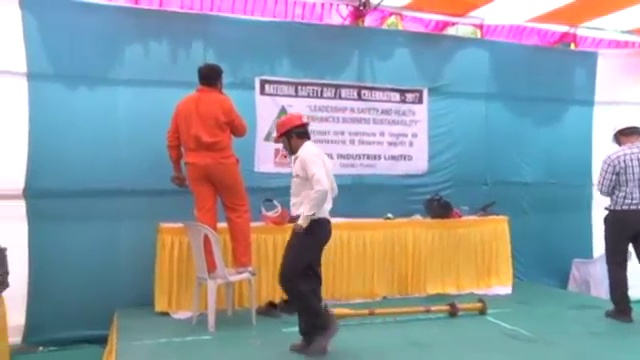helmet: (272, 113, 310, 143), (608, 113, 640, 142)
helmet_off: (196, 60, 224, 89)
helmet_on: (271, 114, 313, 156), (607, 112, 640, 153)
person: (165, 61, 259, 278), (267, 111, 341, 359), (596, 112, 640, 325)
